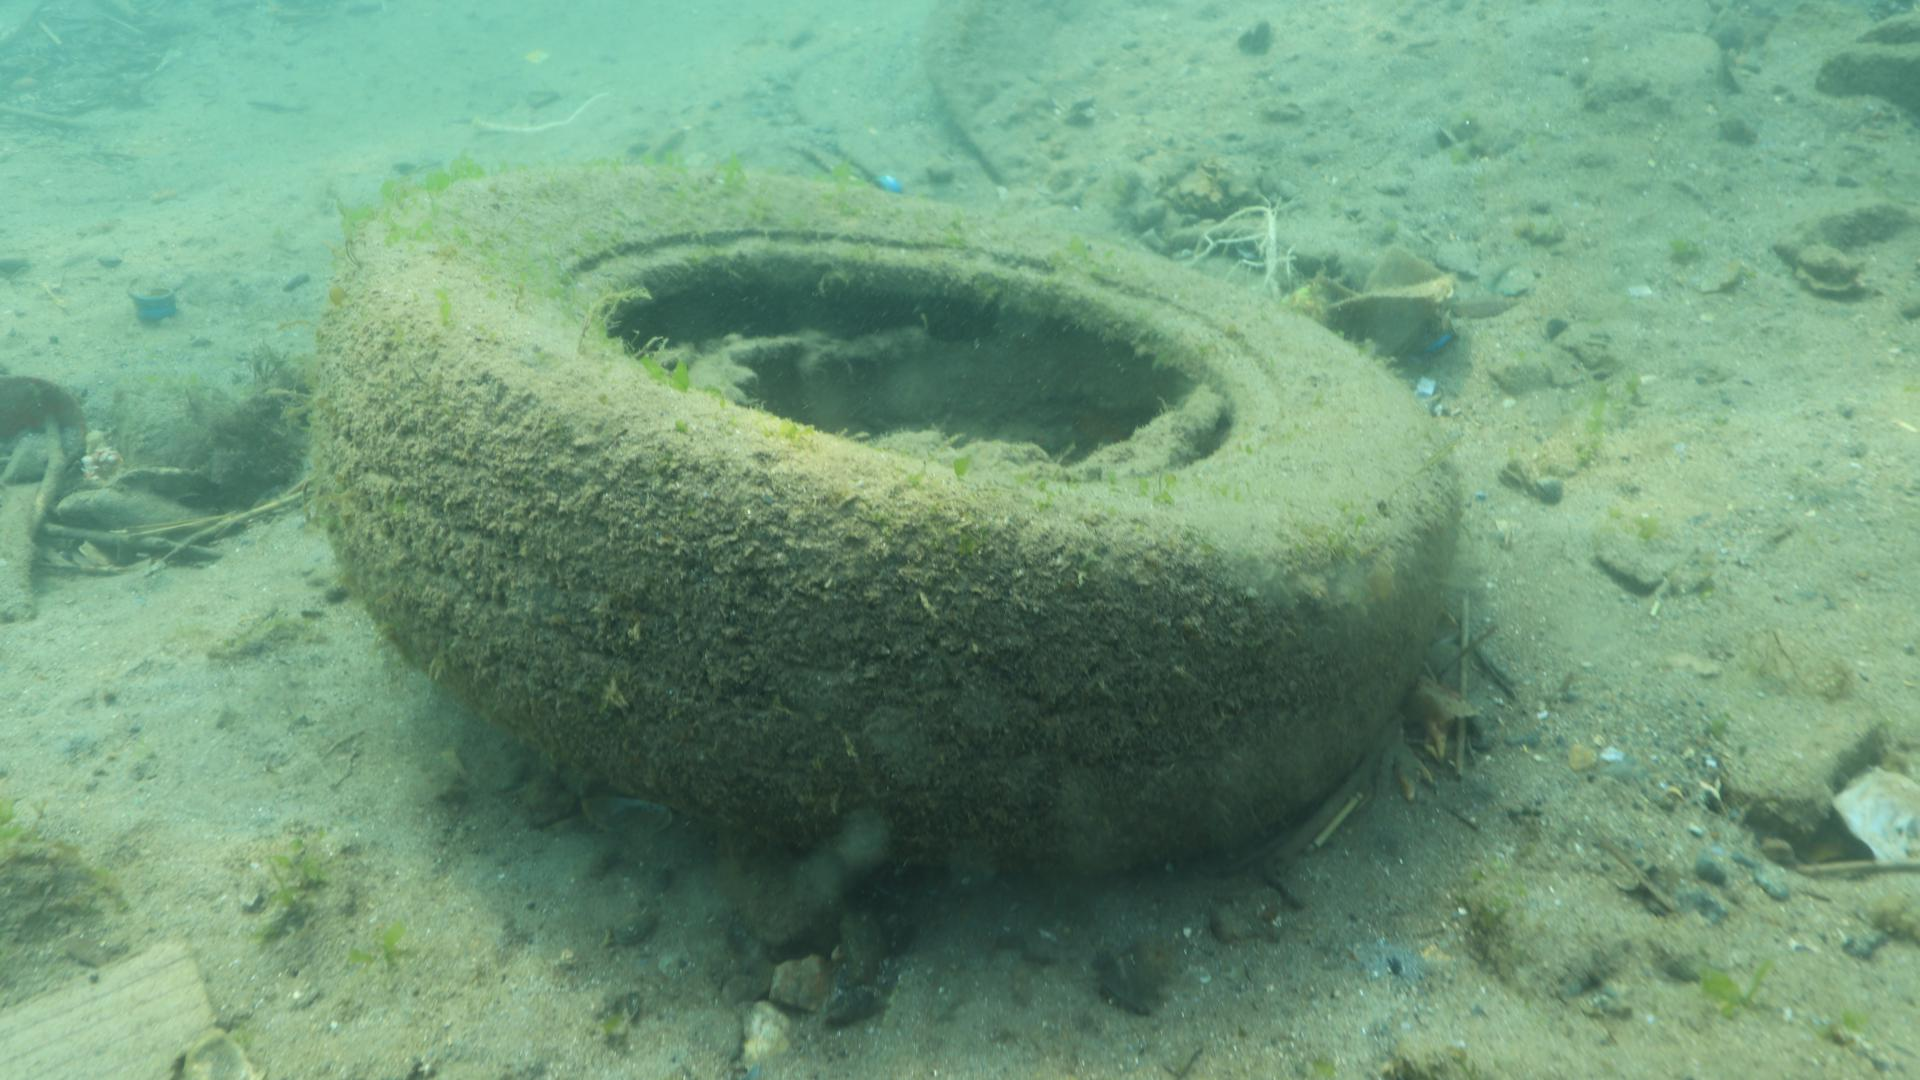tire: (313, 164, 1462, 856)
